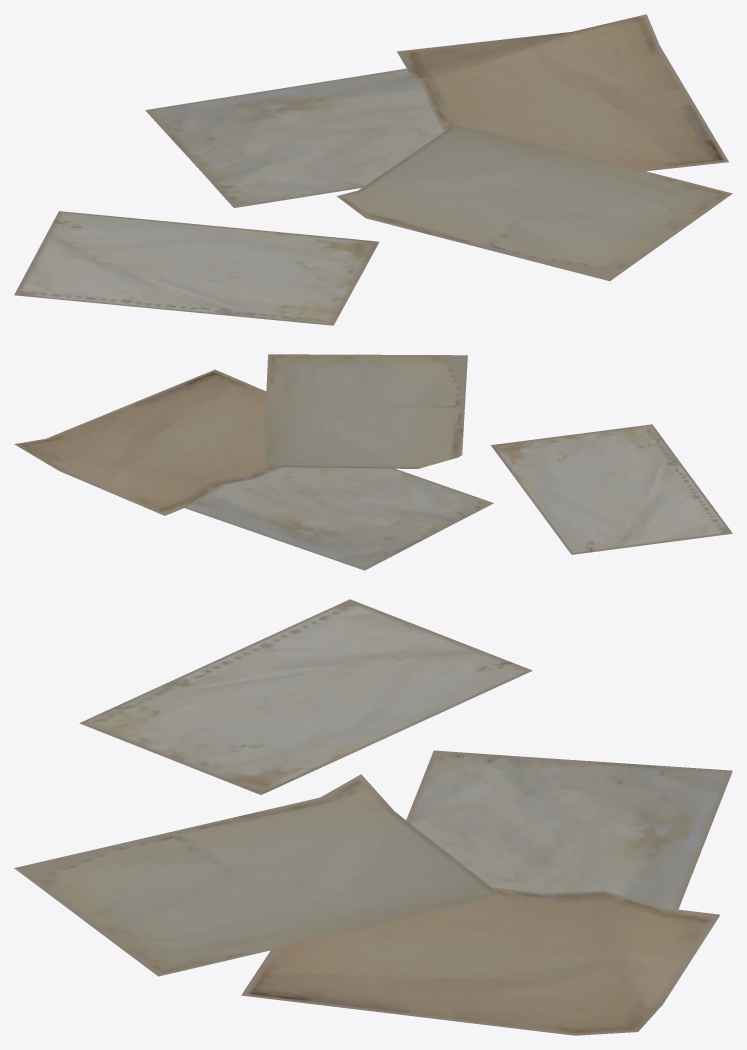
File: 011_Document.fbx
3 views of the same model, one above another, from view 1: azimuth 30°, elevation 25°; view 2: azimuth 150°, elevation 25°; view 3: azimuth 270°, elevation 25° (orthographic). The views are drawn at different scales.
Visible parts, largest first — view 1: LOD_1_Group_0_Sub_1__sm36_011_Document01A_A_Mat; view 2: LOD_1_Group_0_Sub_1__sm36_011_Document01A_A_Mat; view 3: LOD_1_Group_0_Sub_1__sm36_011_Document01A_A_Mat.
Boxes of the visible parts, left/top/right/bottom form: LOD_1_Group_0_Sub_1__sm36_011_Document01A_A_Mat: left=14, top=14, right=732, bottom=325; LOD_1_Group_0_Sub_1__sm36_011_Document01A_A_Mat: left=14, top=354, right=732, bottom=570; LOD_1_Group_0_Sub_1__sm36_011_Document01A_A_Mat: left=14, top=599, right=732, bottom=1035.
Size of the model in its own units: 0.7791 by 0.0159 by 0.5298.
